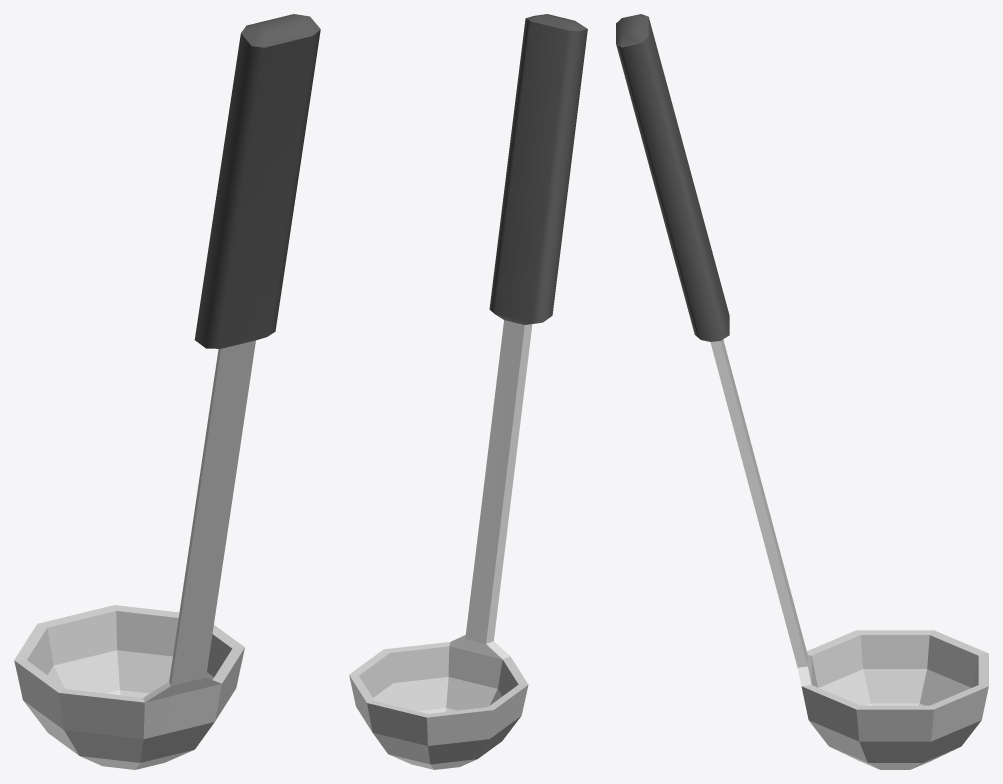
The model's file is SM_Kitchen_BigShaoZi.fbx.
The picture shows the model from 3 angles, left to right: view 1: azimuth 30°, elevation 25°; view 2: azimuth 150°, elevation 25°; view 3: azimuth 270°, elevation 25°; orthographic projection. The views are drawn at different scales.
Visible parts, largest first — view 1: SM_Kitchen_BigShaoZi; view 2: SM_Kitchen_BigShaoZi; view 3: SM_Kitchen_BigShaoZi.
Boxes of the visible parts, x1=… form: SM_Kitchen_BigShaoZi: x1=14, y1=14, x2=320, y2=769; SM_Kitchen_BigShaoZi: x1=349, y1=14, x2=587, y2=769; SM_Kitchen_BigShaoZi: x1=616, y1=14, x2=988, y2=769.
Size of the model in its own units: 0.0739 by 0.3212 by 0.147.
